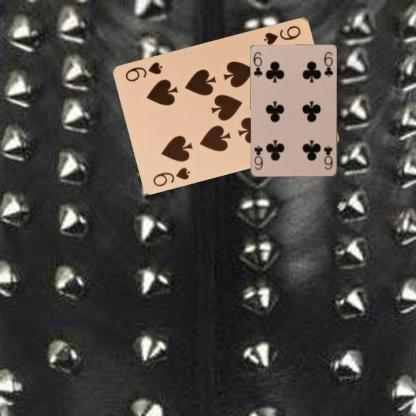6c: (251, 49, 264, 79), (321, 143, 334, 171)
9s: (150, 164, 192, 188), (261, 23, 302, 46)
